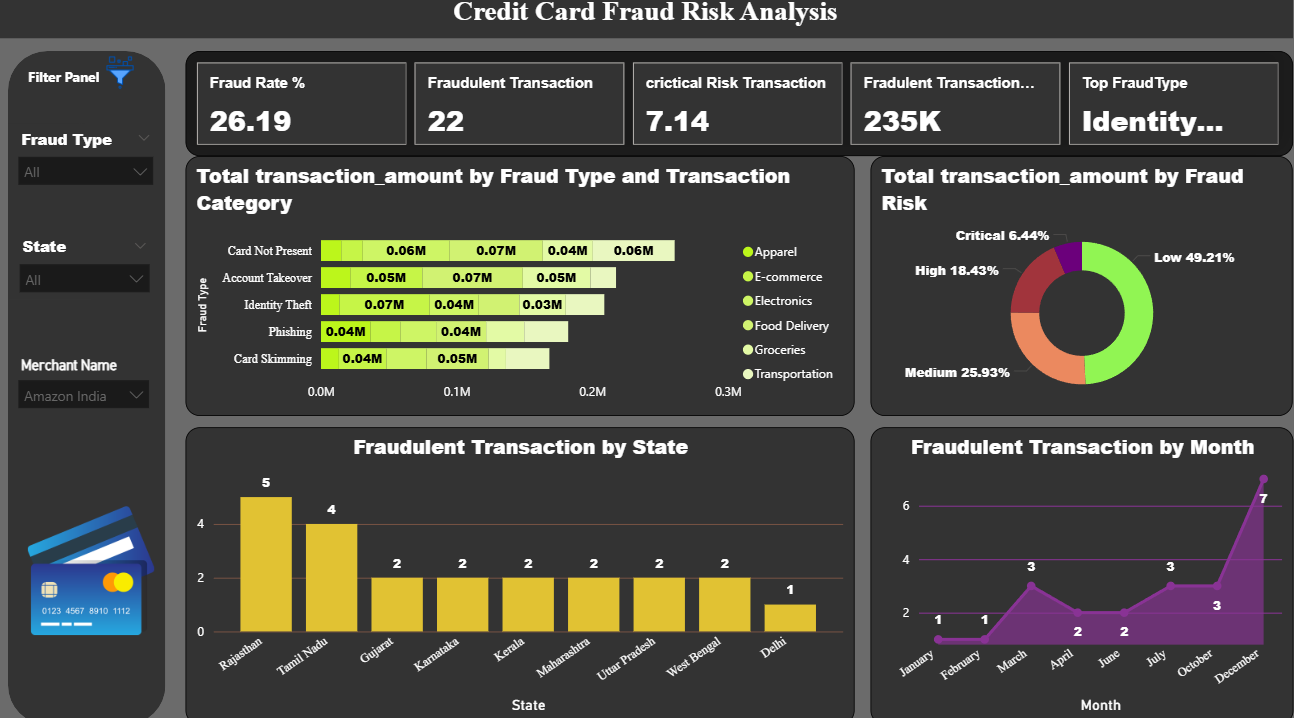

What the dashboard file says about the page in this screenshot:
{"tool":"powerbi","page":{"name":"Page 1","canvas":[1280,720],"ordinal":0},"visuals":[{"type":"textbox","box":[0,0,1271.2,46.6],"z":0},{"type":"shape","box":[9.8,58.9,154.6,661.4],"z":1},{"type":"textbox","box":[24.5,69.9,94.5,40.5],"z":2},{"type":"image","box":[81,58.9,77.3,42.9],"z":3},{"type":"barChart","fields":{"Y":["Credit Card Fraud Risk Analysis.total transaction_amount"],"Category":["Credit Card Fraud Risk Analysis.Fraud Type"],"Series":["Credit Card Fraud Risk Analysis.Transaction Category"]},"box":[184.1,162,656.4,255.2],"z":4},{"type":"donutChart","fields":{"Y":["Credit Card Fraud Risk Analysis.total transaction_amount"],"Category":["Credit Card Fraud Risk Analysis.Fraud Risk"]},"box":[856.4,162,414.7,255.2],"z":5},{"type":"columnChart","fields":{"Category":["Credit Card Fraud Risk Analysis.State"],"Y":["Credit Card Fraud Risk Analysis.Fraudulent Transaction"]},"box":[184.1,428.2,656.4,292],"z":6},{"type":"lineChart","fields":{"Category":["Credit Card Fraud Risk Analysis.Transaction Date.Variation.Date Hierarchy.Month","Credit Card Fraud Risk Analysis.Transaction Date.Variation.Date Hierarchy.Day"],"Y":["Credit Card Fraud Risk Analysis.Fraudulent Transaction"]},"box":[856,428,415,292],"z":7},{"type":"slicer","fields":{"Values":["Credit Card Fraud Risk Analysis.Fraud Type"]},"box":[9.8,130.1,152.1,79.8],"z":8},{"type":"slicer","fields":{"Values":["Credit Card Fraud Risk Analysis.State"]},"box":[11,235.6,147.2,67.5],"z":9},{"type":"slicer","fields":{"Values":["Credit Card Fraud Risk Analysis.Merchant Name"]},"box":[9.8,353.4,148.5,72.4],"z":10},{"type":"image","box":[24.5,446.6,133.7,244.2],"z":11},{"type":"cardVisual","fields":{"Data":["Credit Card Fraud Risk Analysis.Fraud Rate %","Credit Card Fraud Risk Analysis.Fraudulent Transaction","Credit Card Fraud Risk Analysis.crictical Risk Transaction","Credit Card Fraud Risk Analysis.Fradulent Transaction Amount","Credit Card Fraud Risk Analysis.Top FraudType"]},"box":[184.1,58.9,1087.1,103.1],"z":12}]}

Visuals, with their boxes in screenshot pixels (x1, y1, x2, y2), scaled from the page's 1280x720 canvas onto the 1294x718 screenshot:
textbox: (left=0, top=0, right=1285, bottom=46)
shape: (left=10, top=59, right=166, bottom=717)
textbox: (left=25, top=70, right=120, bottom=110)
image: (left=82, top=59, right=160, bottom=102)
barChart - Credit Card Fraud Risk Analysis.total transaction_amount x Credit Card Fraud Risk Analysis.Fraud Type: (left=186, top=162, right=850, bottom=416)
donutChart - Credit Card Fraud Risk Analysis.total transaction_amount x Credit Card Fraud Risk Analysis.Fraud Risk: (left=866, top=162, right=1285, bottom=416)
columnChart - Credit Card Fraud Risk Analysis.State x Credit Card Fraud Risk Analysis.Fraudulent Transaction: (left=186, top=427, right=850, bottom=717)
lineChart - Credit Card Fraud Risk Analysis.Transaction Date.Variation.Date Hierarchy.Month x Credit Card Fraud Risk Analysis.Transaction Date.Variation.Date Hierarchy.Day: (left=865, top=427, right=1285, bottom=717)
slicer - Credit Card Fraud Risk Analysis.Fraud Type: (left=10, top=130, right=164, bottom=209)
slicer - Credit Card Fraud Risk Analysis.State: (left=11, top=235, right=160, bottom=302)
slicer - Credit Card Fraud Risk Analysis.Merchant Name: (left=10, top=352, right=160, bottom=425)
image: (left=25, top=445, right=160, bottom=689)
cardVisual - Credit Card Fraud Risk Analysis.Fraud Rate % x Credit Card Fraud Risk Analysis.Fraudulent Transaction: (left=186, top=59, right=1285, bottom=162)
